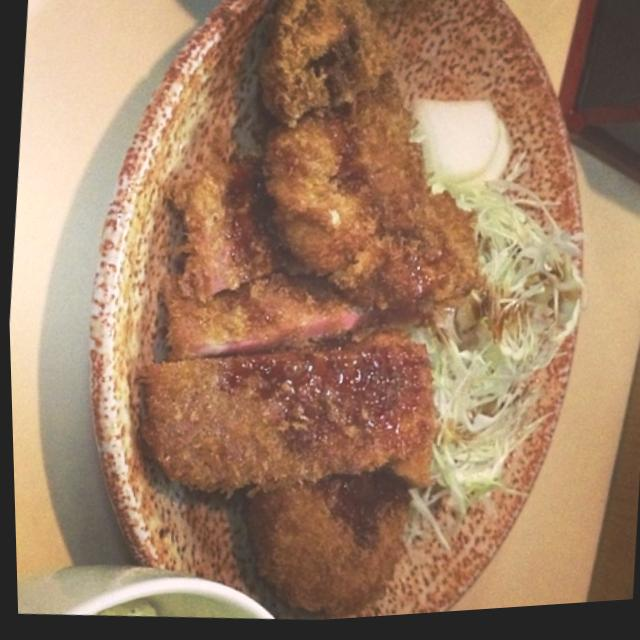炸货点心: (50, 0, 636, 637)
